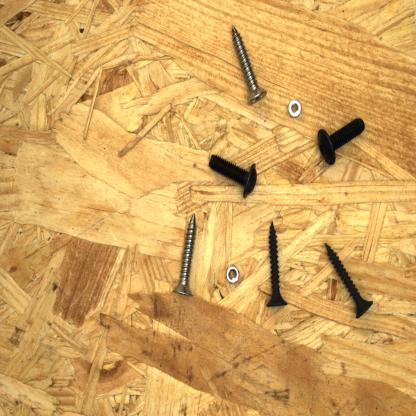screw: (324, 240, 374, 320), (230, 21, 269, 107), (316, 115, 368, 167), (206, 150, 260, 200), (171, 210, 199, 298), (264, 221, 288, 309)
